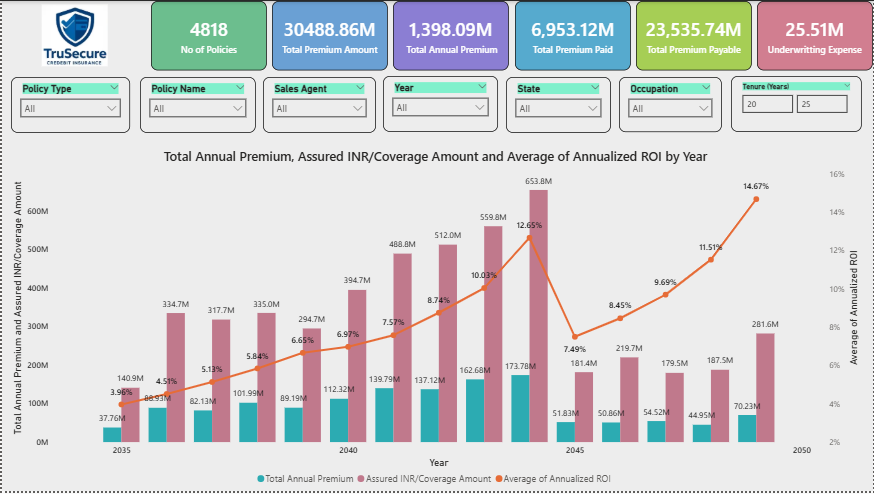

This screenshot's page, from the dashboard's own definition file:
{"tool":"powerbi","page":{"name":"Annual Premium Vs Protection Value","canvas":[1280,720],"ordinal":3},"visuals":[{"type":"card","fields":{"Values":["CountNonNull(DM Customer_Detail_Table.Customer ID)"]},"box":[218.3,0,170,101.7],"z":0},{"type":"card","fields":{"Values":["Sum(FCT Insurance_Policy_Table.Total Annual Premium)"]},"box":[575,0,170,101.7],"z":1000},{"type":"card","fields":{"Values":["Sum(FCT Insurance_Policy_Table.Total Premium Amount)"]},"box":[396.7,0,170,101.7],"z":2000},{"type":"card","fields":{"Values":["Sum(FCT Insurance_Policy_Table.Total Premium Paid)"]},"box":[753.3,0,170,101.7],"z":3000},{"type":"card","fields":{"Values":["Sum(FCT Insurance_Policy_Table.Total Premium Payable)"]},"box":[931.7,0,170,101.7],"z":4000},{"type":"card","fields":{"Values":["FCT Insurance_Policy_Table.Underwritting Expense"]},"box":[1110,0,170,101.7],"z":5000},{"type":"slicer","fields":{"Values":["DM Policy_Protection_Plan.Policy Name"]},"box":[202.8,111.7,170.4,82.3],"z":6000},{"type":"slicer","fields":{"Values":["DM Policy_Type.Policy Type"]},"box":[13.2,111.7,174.9,82.3],"z":7000},{"type":"slicer","fields":{"Values":["FCT Insurance_Policy_Table.Start Date.Variation.Date Hierarchy.Year"]},"box":[559.8,110.2,169,82.3],"z":8000},{"type":"slicer","fields":{"Values":["DM Insurance_Agent_Table.Sales Agent"]},"box":[383.5,111.7,166,82.3],"z":9000},{"type":"slicer","fields":{"Values":["DM Customer_Detail_Table.State"]},"box":[740.6,111.7,154.3,82.3],"z":10000},{"type":"slicer","fields":{"Values":["DM Customer_Detail_Table.Occupation"]},"box":[906.6,111.7,151.3,80.8],"z":11000},{"type":"image","box":[10.3,0,194,101.4],"z":12000},{"type":"lineClusteredColumnComboChart","fields":{"Y2":["Avg(FCT Insurance_Policy_Table.Annualized ROI)"],"Y":["Sum(FCT Insurance_Policy_Table.Total Annual Premium)","Sum(FCT Insurance_Policy_Table.Sum Assured INR/Coverage Amount)"],"Category":["FCT Insurance_Policy_Table.Tenure Date.Variation.Date Hierarchy.Year","FCT Insurance_Policy_Table.Tenure Date.Variation.Date Hierarchy.Quarter","FCT Insurance_Policy_Table.Tenure Date.Variation.Date Hierarchy.Month","FCT Insurance_Policy_Table.Tenure Date.Variation.Date Hierarchy.Day"]},"box":[10.7,214.5,1253.2,505.9],"z":13000},{"type":"slicer","fields":{"Values":["FCT Insurance_Policy_Table.Tenure (Years)"]},"box":[1071.2,110.2,192.5,82.3],"z":14000}]}

Visuals, with their boxes in screenshot pixels (x1, y1, x2, y2), scaled from the page's 1280x720 canvas onto the 874x494 screenshot:
card - CountNonNull(DM Customer_Detail_Table.Customer ID): bbox=(149, 0, 265, 70)
card - Sum(FCT Insurance_Policy_Table.Total Annual Premium): bbox=(393, 0, 509, 70)
card - Sum(FCT Insurance_Policy_Table.Total Premium Amount): bbox=(271, 0, 387, 70)
card - Sum(FCT Insurance_Policy_Table.Total Premium Paid): bbox=(514, 0, 630, 70)
card - Sum(FCT Insurance_Policy_Table.Total Premium Payable): bbox=(636, 0, 752, 70)
card - FCT Insurance_Policy_Table.Underwritting Expense: bbox=(758, 0, 873, 70)
slicer - DM Policy_Protection_Plan.Policy Name: bbox=(138, 77, 255, 133)
slicer - DM Policy_Type.Policy Type: bbox=(9, 77, 128, 133)
slicer - FCT Insurance_Policy_Table.Start Date.Variation.Date Hierarchy.Year: bbox=(382, 76, 498, 132)
slicer - DM Insurance_Agent_Table.Sales Agent: bbox=(262, 77, 375, 133)
slicer - DM Customer_Detail_Table.State: bbox=(506, 77, 611, 133)
slicer - DM Customer_Detail_Table.Occupation: bbox=(619, 77, 722, 132)
image: bbox=(7, 0, 139, 70)
lineClusteredColumnComboChart - Avg(FCT Insurance_Policy_Table.Annualized ROI) x Sum(FCT Insurance_Policy_Table.Total Annual Premium): bbox=(7, 147, 863, 493)
slicer - FCT Insurance_Policy_Table.Tenure (Years): bbox=(731, 76, 863, 132)
